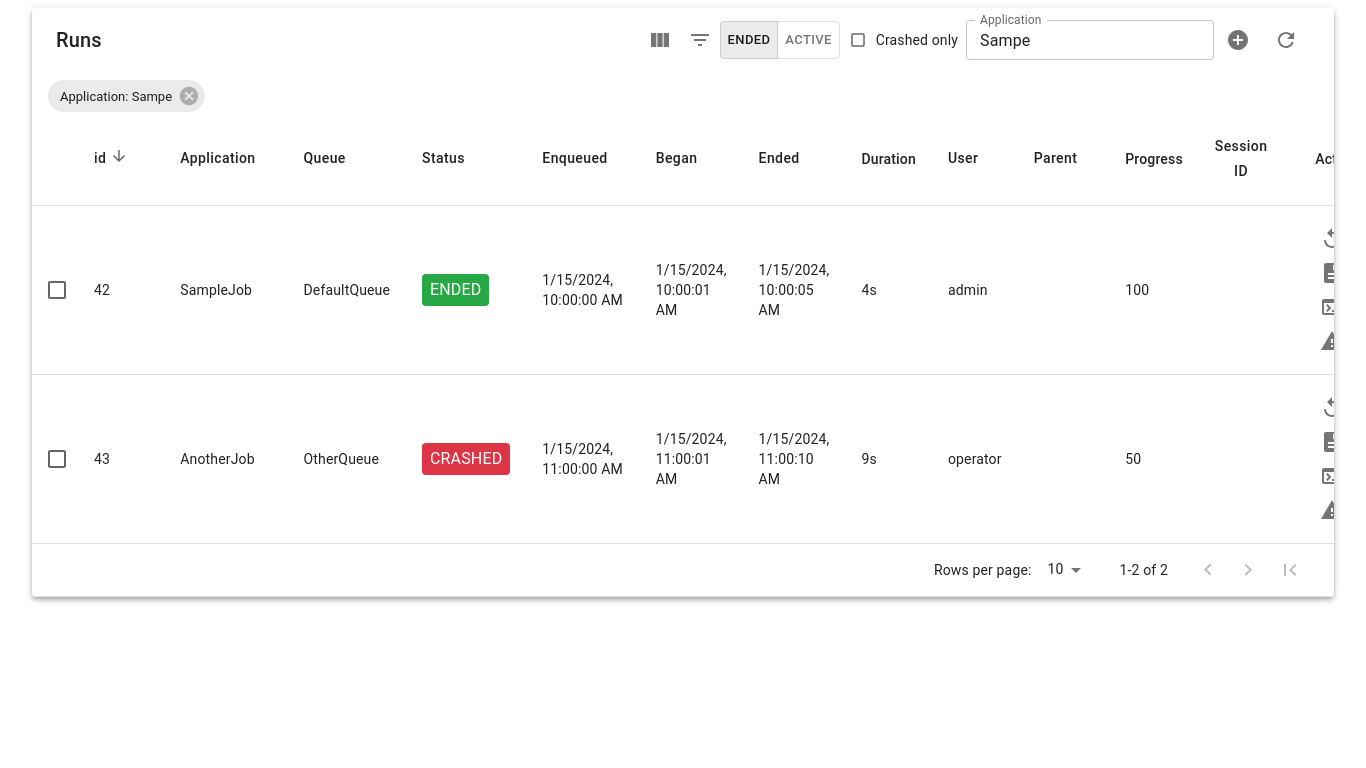
RunsPage › opens stdout log in the details dialog when clicking the Log stdout button
This screenshot has width=1366, height=768.
Check: the text "SampleJob" is shown, box [180,282,252,298]
Click the button named "Log stdout" in the row of "42" at (1332, 307), box [1315,290,1349,324]
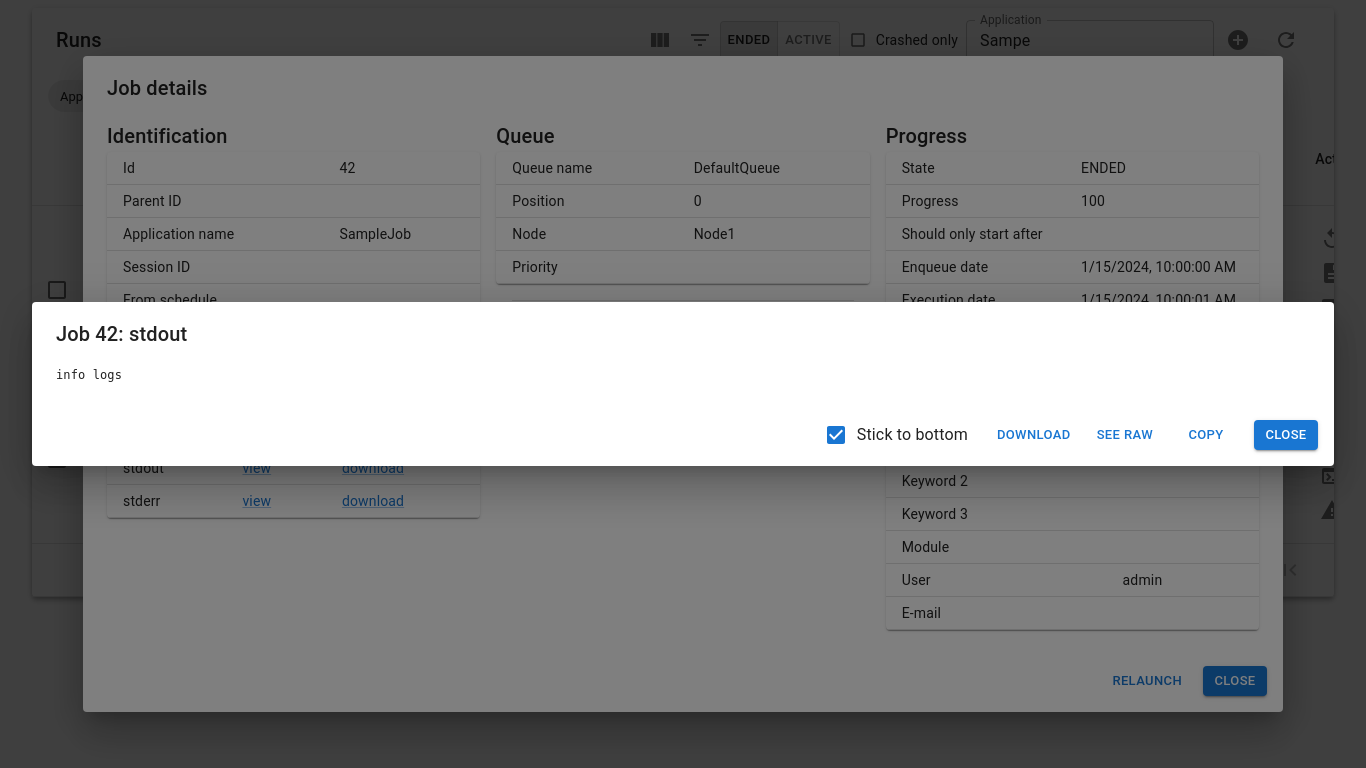
Check: the dialog is shown, box [32,302,1334,466]
Check: the text "info logs" is shown, box [56,368,122,382]
